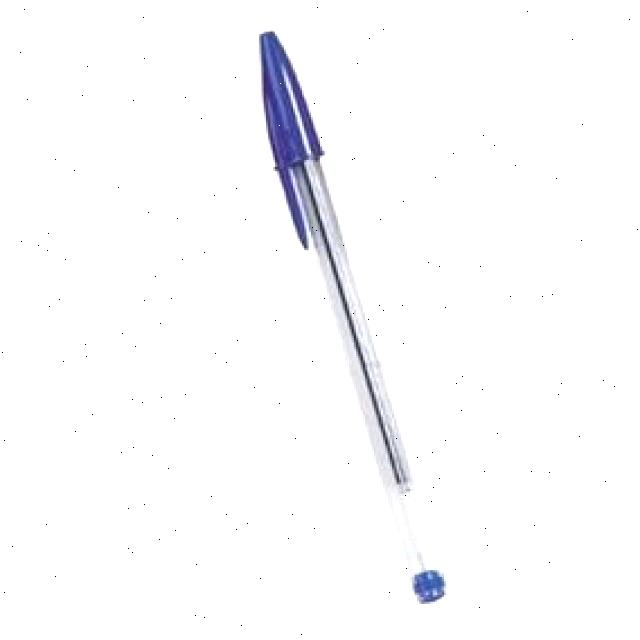pen: (254, 27, 448, 604)
